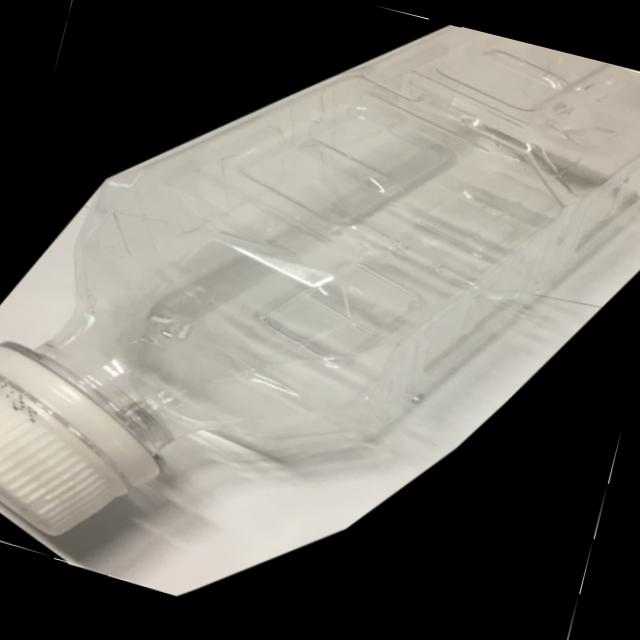plastic: (0, 24, 640, 598)
